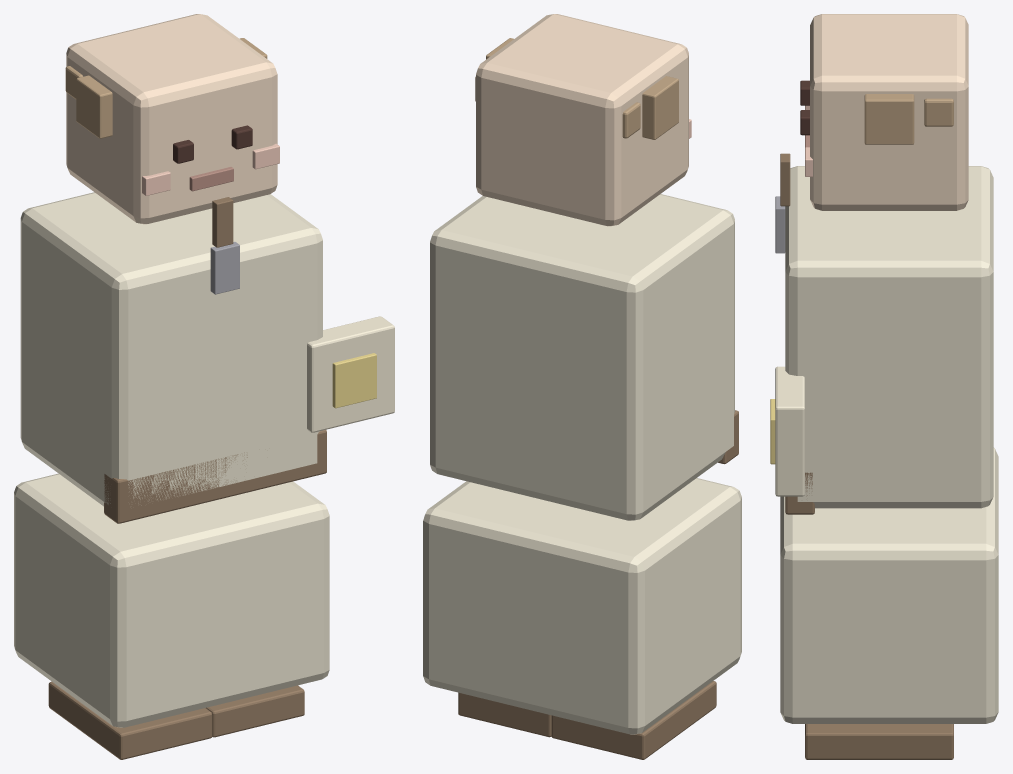
File: npc_pell.glb
3 views of the same model, side by side, from view 1: azimuth 30°, elevation 25°; view 2: azimuth 150°, elevation 25°; view 3: azimuth 270°, elevation 25° (orthographic). The views are drawn at different scales.
Visible parts, largest first — view 1: Body_torso, Body_robe, Head_skull, Arm_R_parchment, Body_belt, Leg_L_sandal, Leg_R_sandal, Arm_R_gold_orn, Head_hair_l, Body_key, Body_cord, Head_smile; view 2: Body_torso, Body_robe, Head_skull, Leg_L_sandal, Leg_R_sandal, Head_hair_l, Head_hair_band; view 3: Body_torso, Body_robe, Head_skull, Leg_R_sandal, Arm_R_parchment, Head_hair_r, Head_hair_band, Body_cord, Body_belt, Body_key.
Part boxes in pixels (box(x1,y1,x2,y2)): Body_torso: box(20, 192, 322, 506); Body_robe: box(14, 473, 329, 727); Head_skull: box(66, 14, 277, 224); Arm_R_parchment: box(307, 316, 394, 432); Body_belt: box(104, 430, 326, 523); Leg_L_sandal: box(48, 681, 212, 759); Leg_R_sandal: box(206, 685, 304, 737); Arm_R_gold_orn: box(332, 353, 376, 408); Head_hair_l: box(76, 75, 112, 138); Body_key: box(210, 242, 239, 294); Body_cord: box(212, 197, 233, 247); Head_smile: box(189, 167, 233, 191); Body_torso: box(430, 194, 734, 520); Body_robe: box(423, 478, 741, 734); Head_skull: box(476, 14, 688, 226); Leg_L_sandal: box(551, 681, 716, 759); Leg_R_sandal: box(458, 692, 551, 737); Head_hair_l: box(642, 76, 678, 139); Head_hair_band: box(475, 76, 640, 138); Body_torso: box(785, 166, 993, 508); Body_robe: box(780, 447, 998, 723); Head_skull: box(810, 14, 968, 210); Leg_R_sandal: box(805, 724, 953, 759); Arm_R_parchment: box(775, 366, 804, 496); Head_hair_r: box(864, 94, 914, 144); Head_hair_band: box(924, 98, 953, 126); Body_cord: box(780, 153, 790, 206); Body_belt: box(785, 472, 814, 514); Body_key: box(775, 196, 785, 253).
Size of the model in its own units: 0.66 by 1.49 by 0.46.
